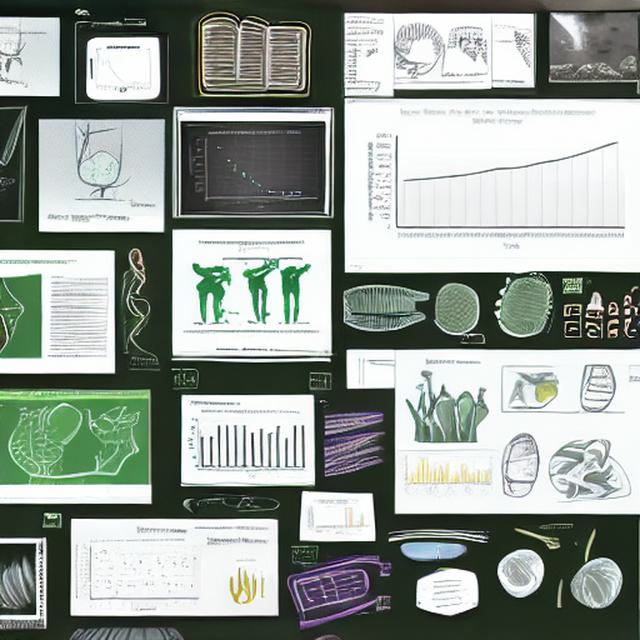Graph: (361, 104, 629, 255), (187, 127, 323, 212), (71, 536, 202, 613), (184, 406, 311, 480), (87, 41, 157, 94), (399, 450, 465, 496), (304, 498, 368, 537)
